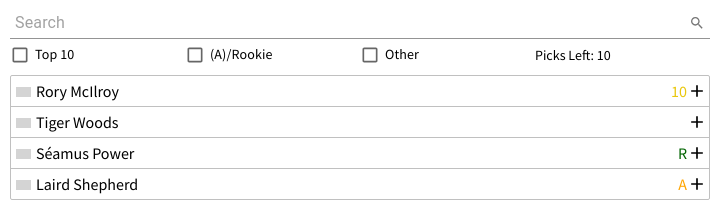
Scenario: Available Golfers List › removes a selected golfer from the list
Check: the list item "Tiger Woods" is shown, box 11,107 -> 709,138
What coordinates should you click on to do the following:
click the icon with test id "AddIcon" in the row of "Tiger Woods"
I would click on:
 (697, 122)
Its box is 687,112 -> 707,132.
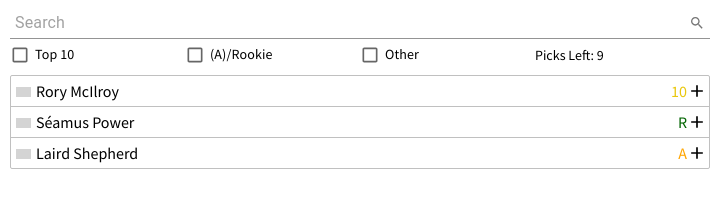
Check: the list item "Tiger Woods" is gone
